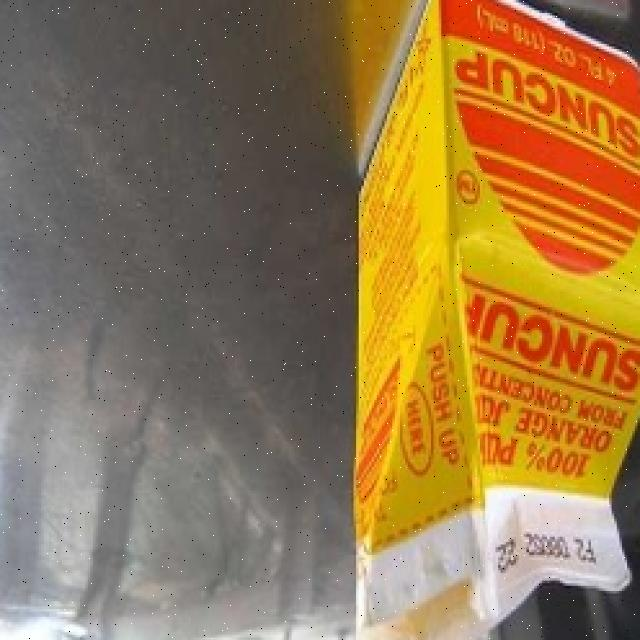box: (349, 0, 640, 633)
